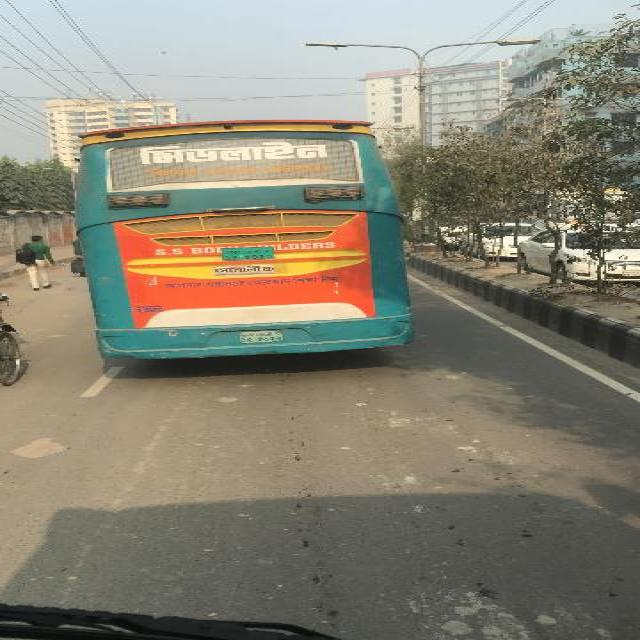vehicle: (73, 121, 420, 360), (518, 229, 640, 283), (458, 223, 543, 260)
